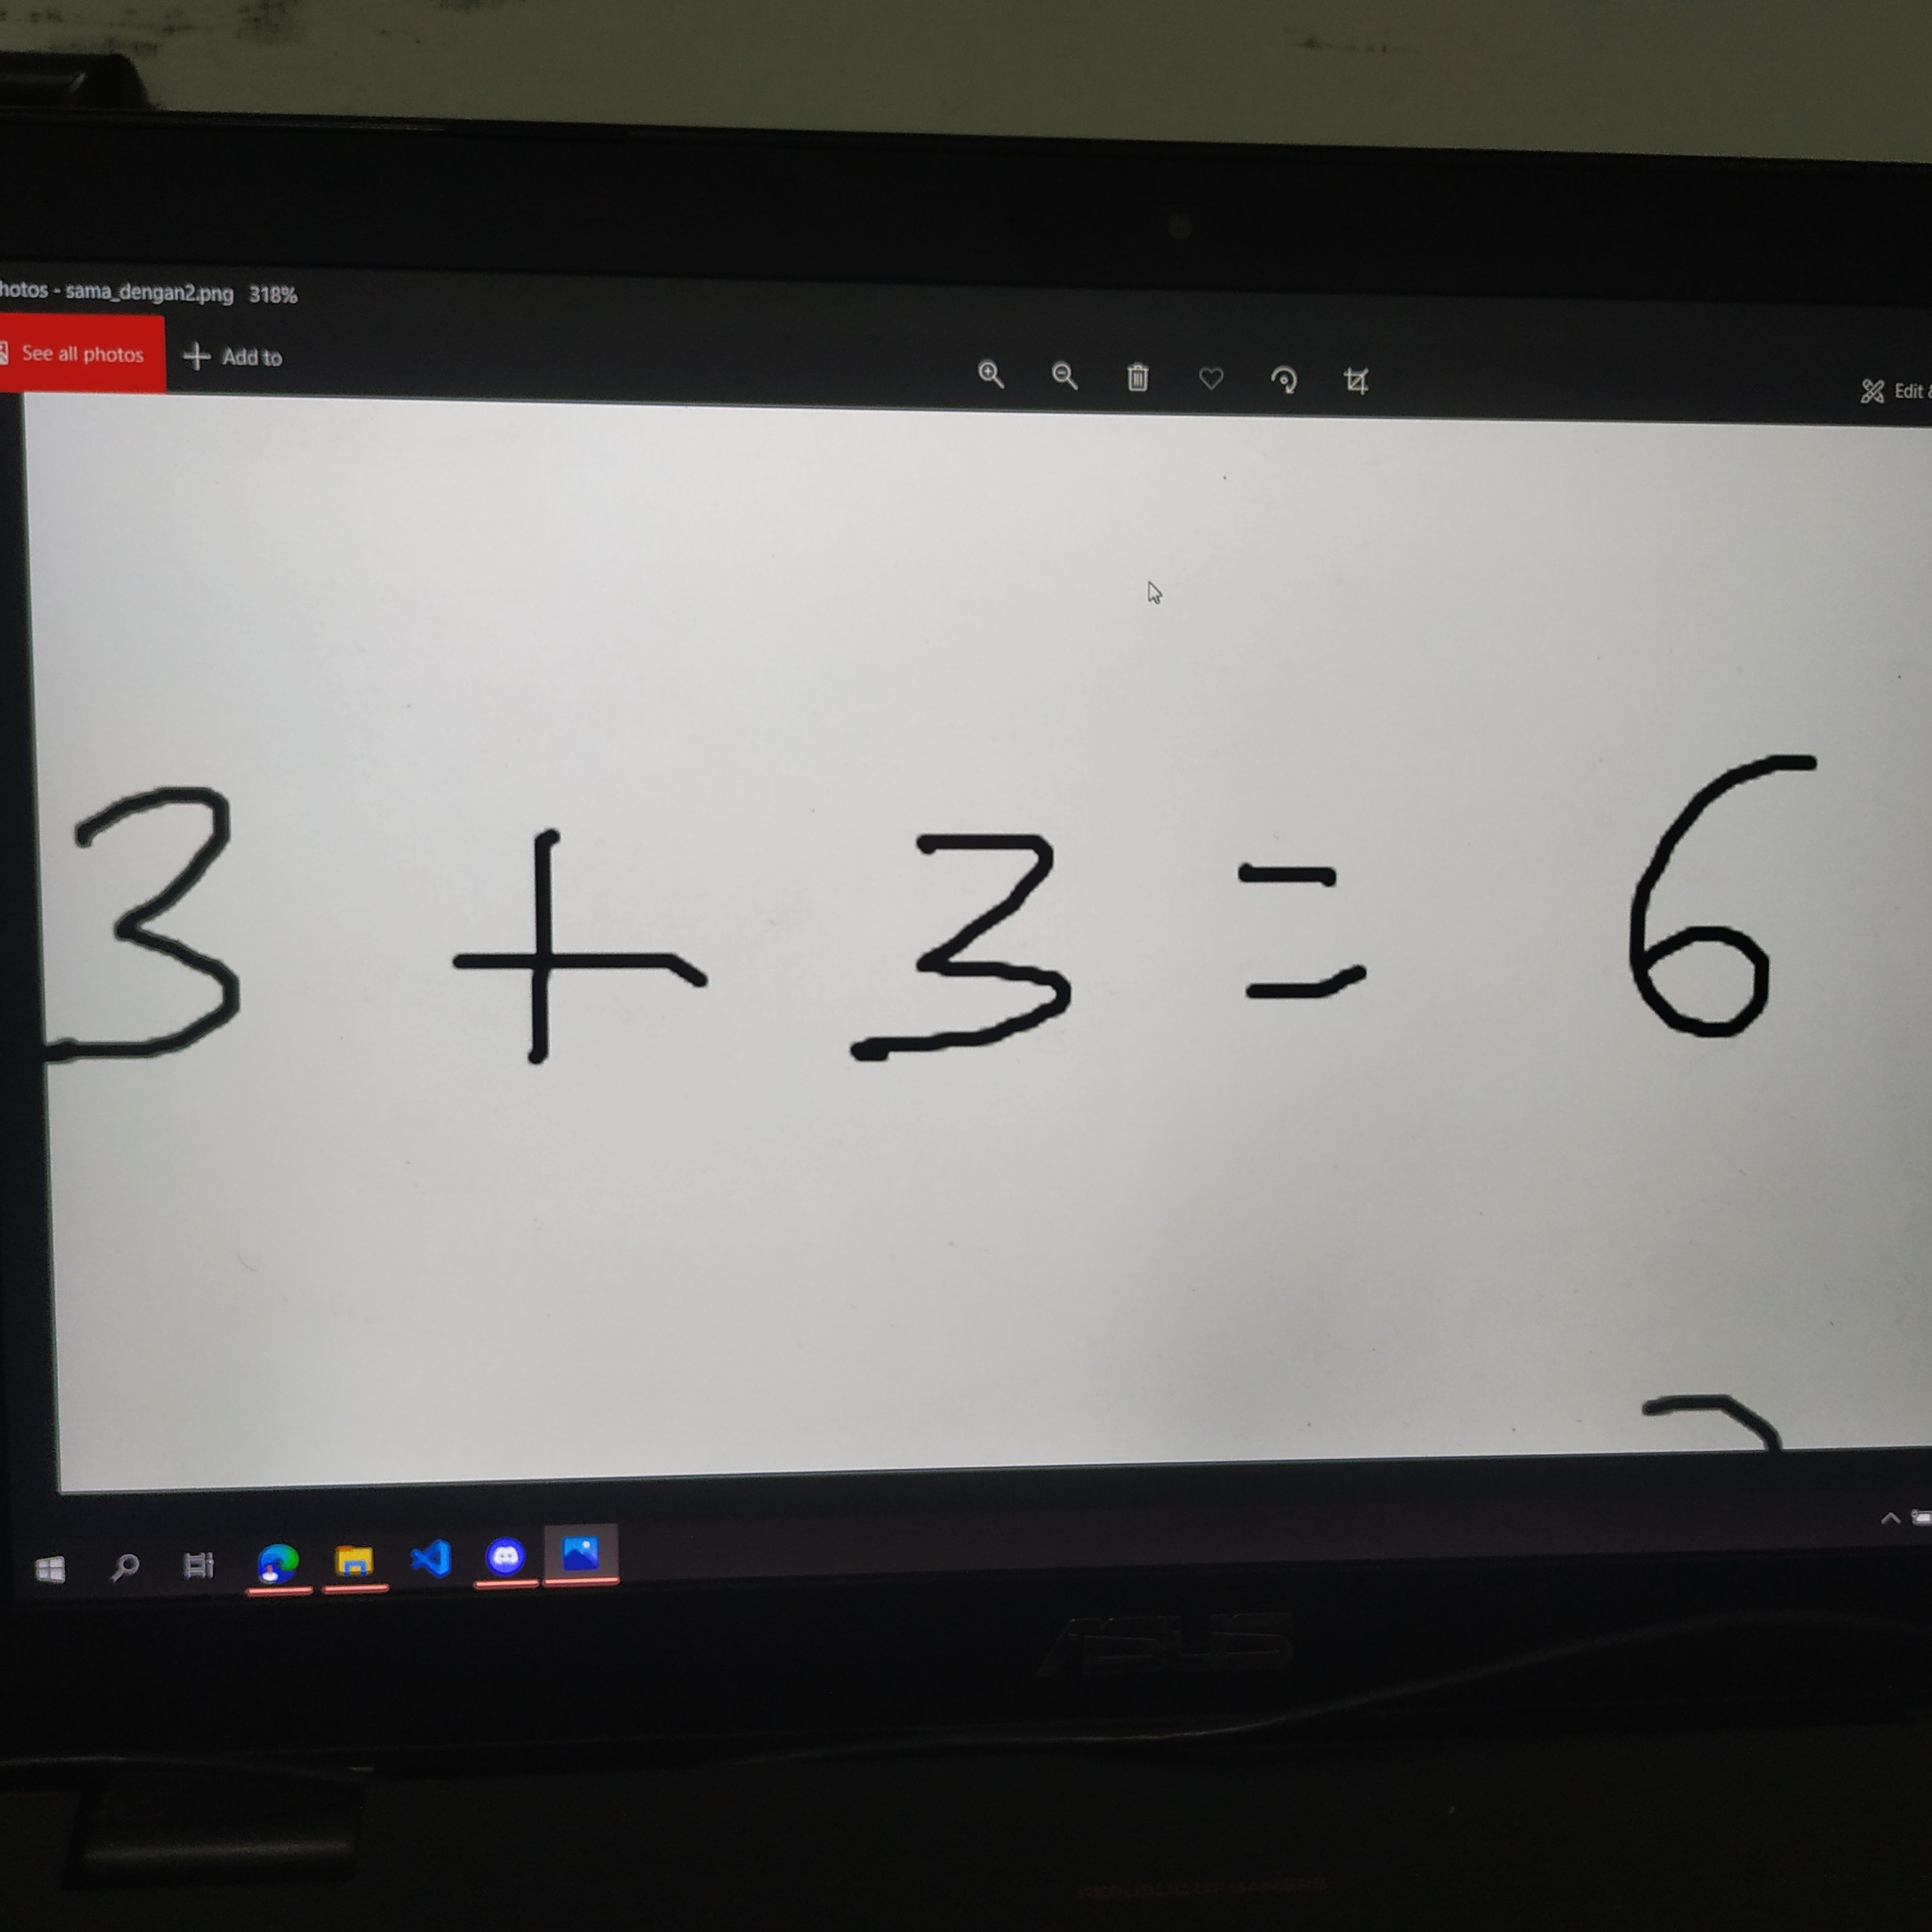equal: (1209, 837, 1411, 1022)
num3: (833, 806, 1128, 1090), (42, 785, 299, 1082)
num6: (1608, 739, 1833, 1070)
sum: (437, 808, 740, 1072)
